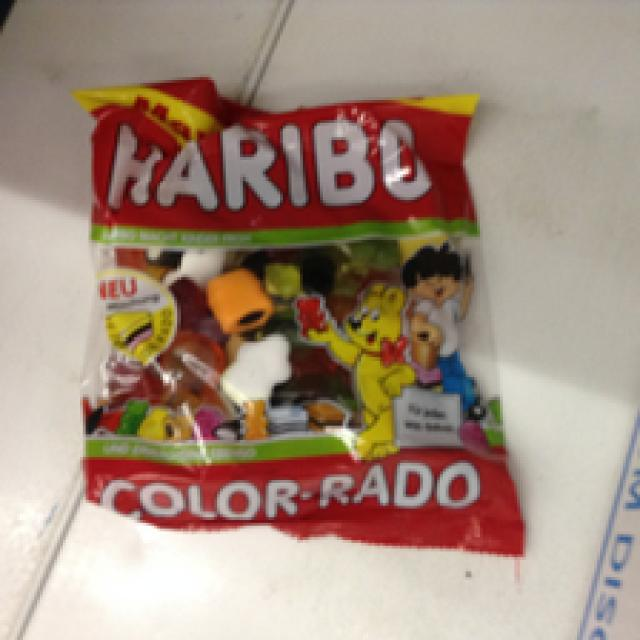groceries: (68, 77, 526, 560)
